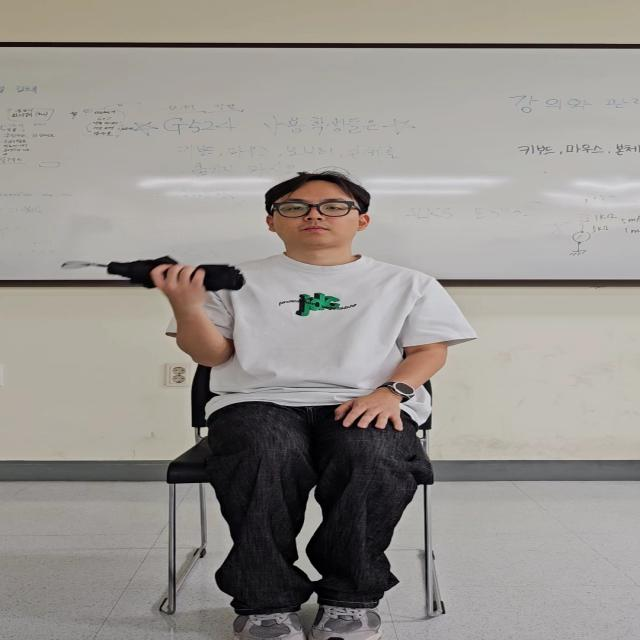curl: (129, 248, 250, 371)
